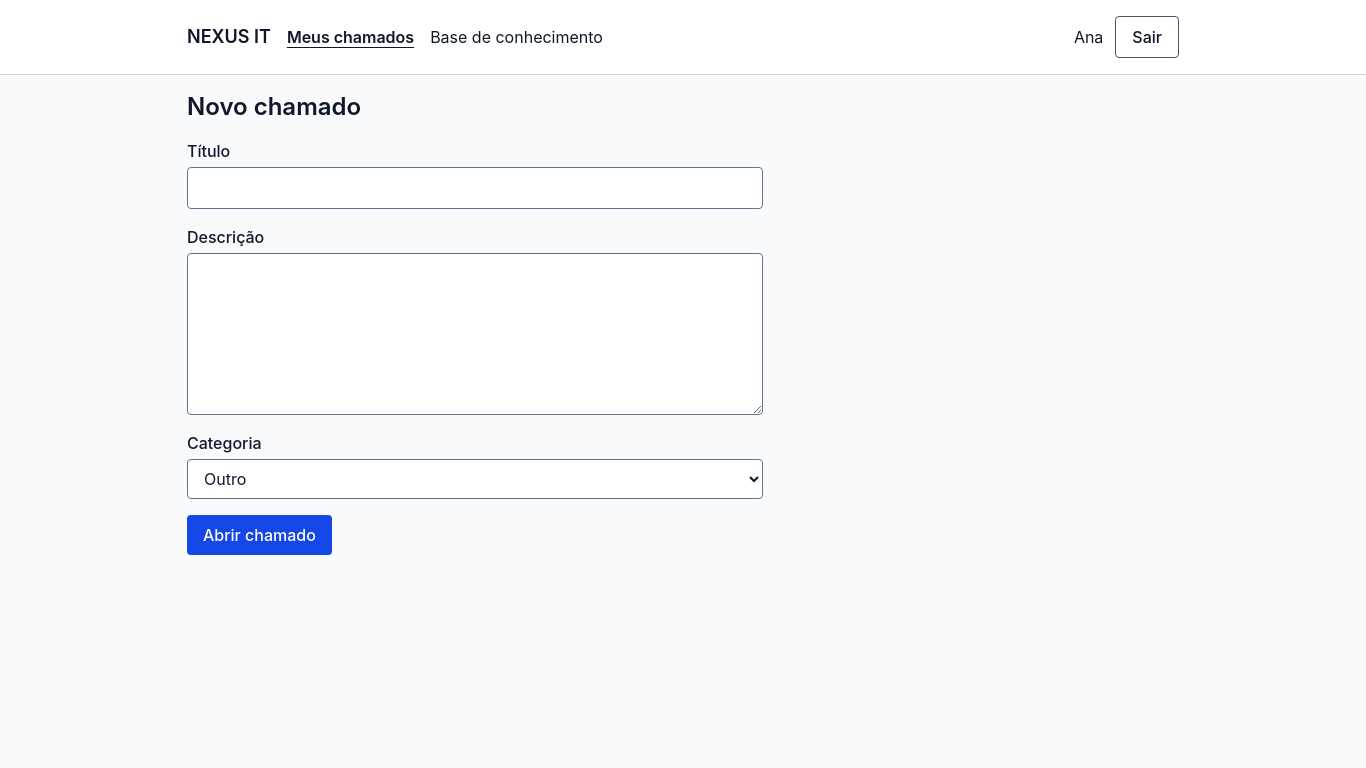
Test case: solicitante: lista e abertura (FR-03) › erro 400 da API aparece como aviso e o formulário continua
In the field labelled "Título": [475, 188] box [187, 167, 763, 209], type "x"
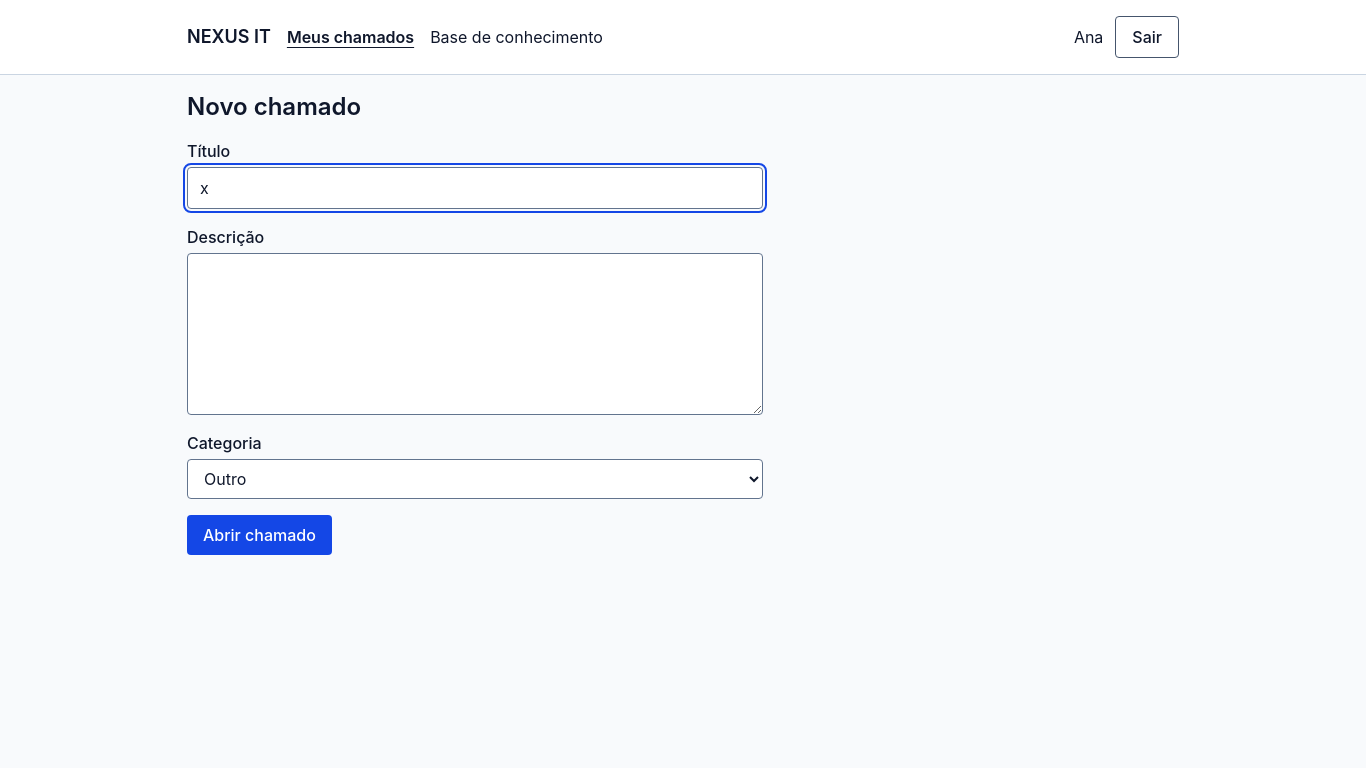
In the text box labelled "Descrição": [475, 334] box [187, 253, 763, 415], type "y"
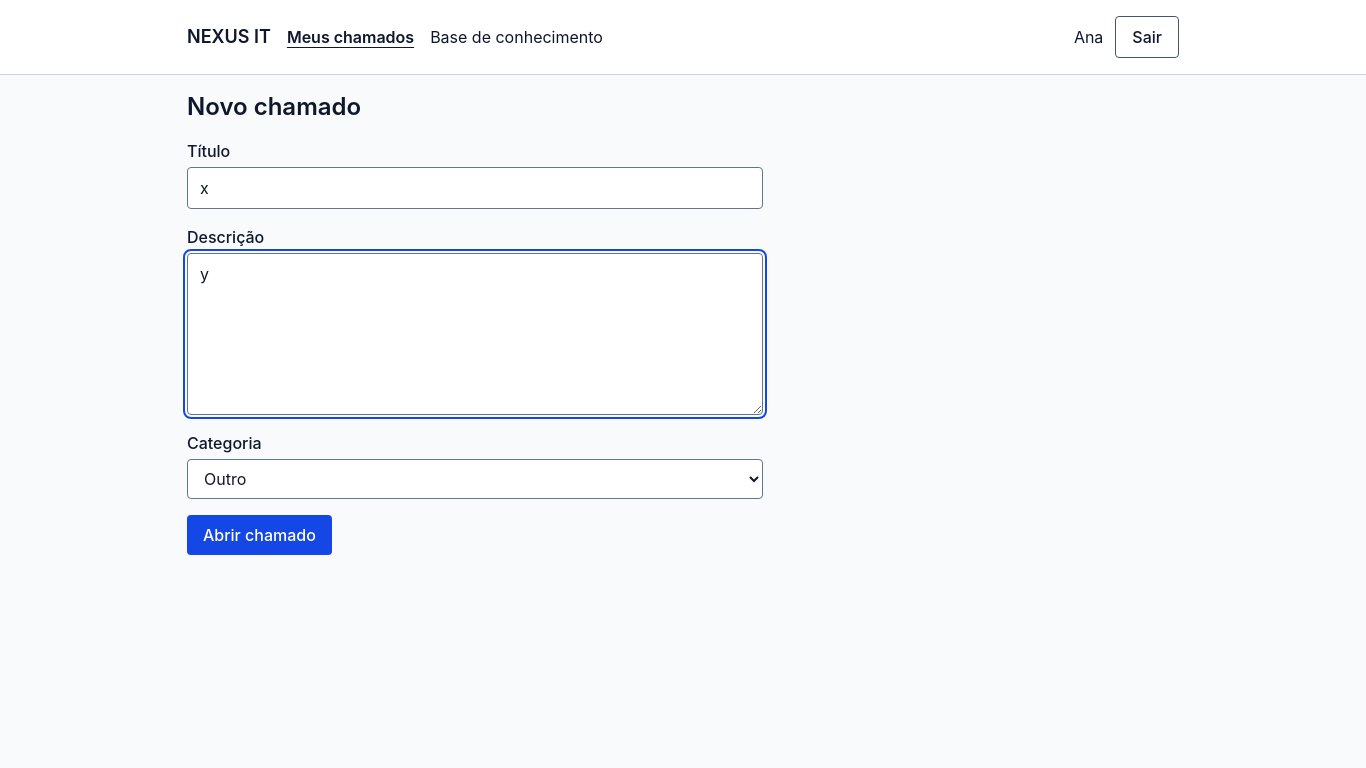
Click the button "Abrir chamado": [259, 535] box [187, 515, 332, 555]
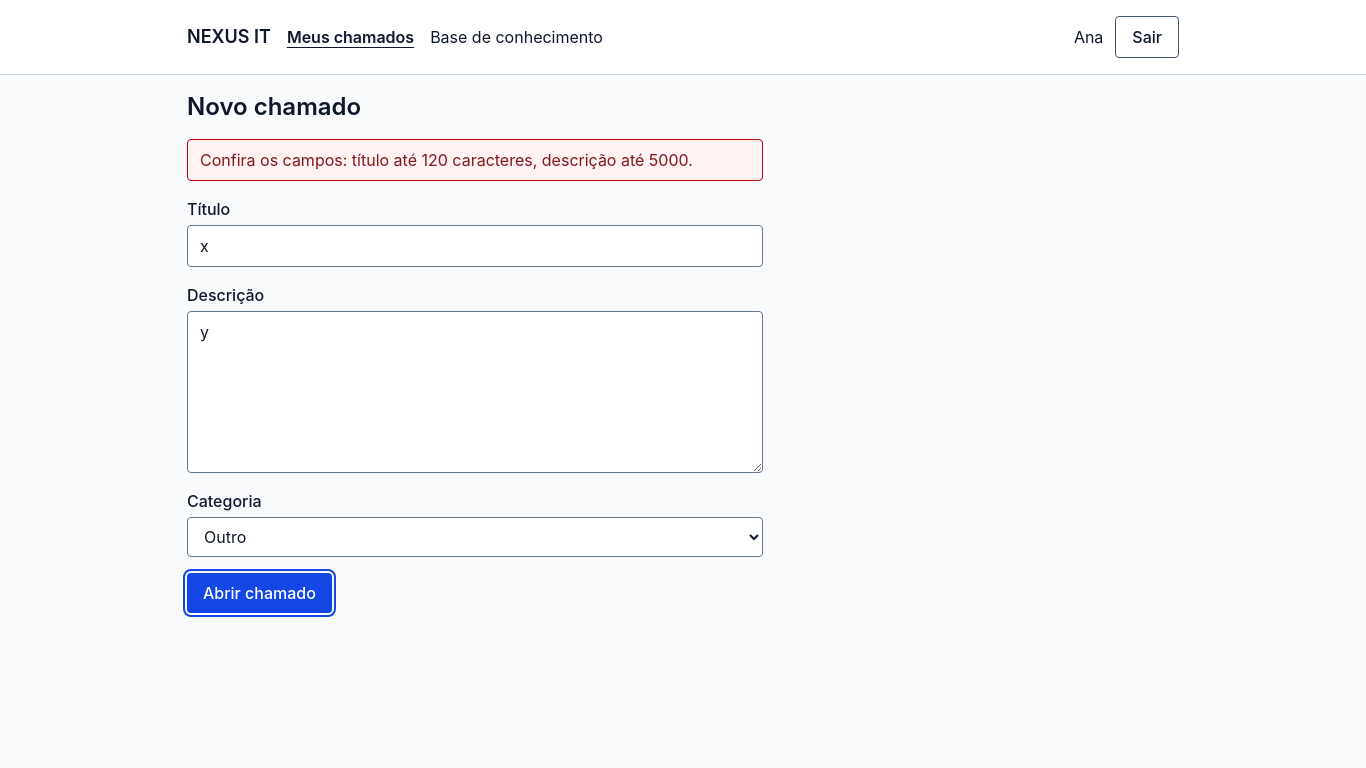
Now the message shows "Confira os campos", box [200, 150, 693, 170]
